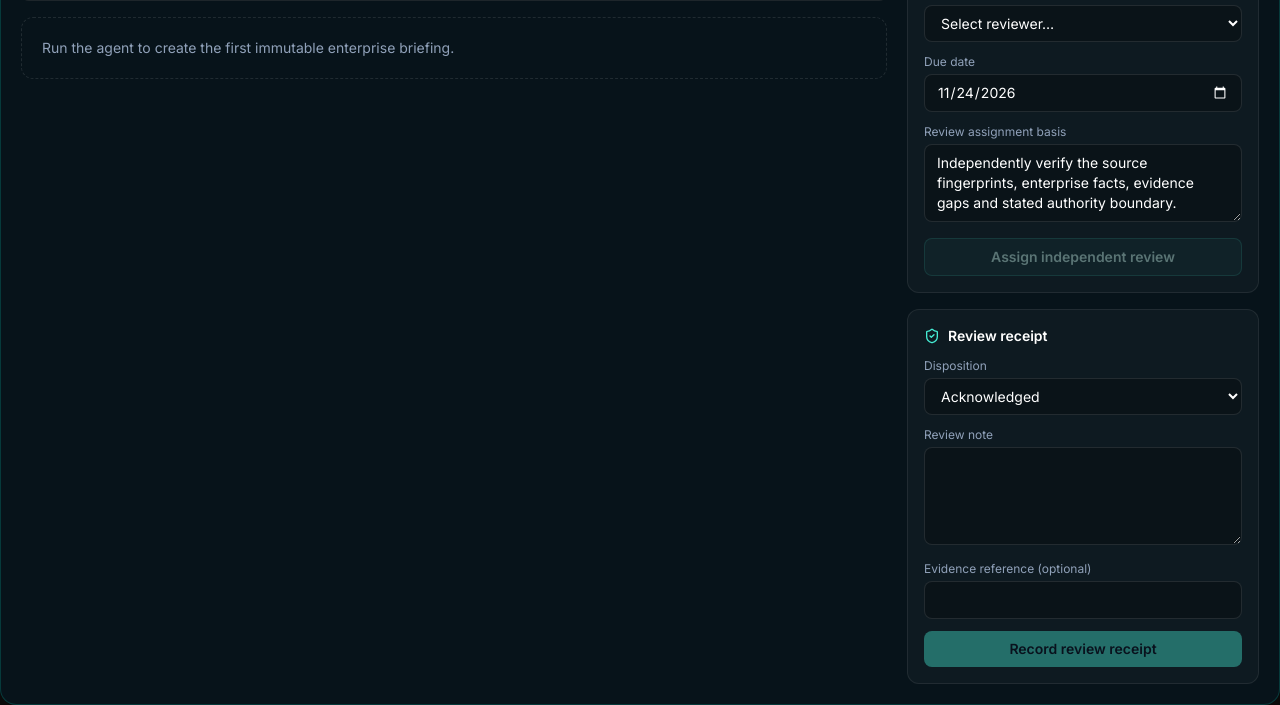
Test: MaintenanceExecutiveAgentWorkbench › enables a receipt only for the assigned reviewer with a substantive note
The width and height of the screenshot is (1280, 705).
(page scrolled)
Expected: the button "Record review receipt" is disabled, x1=924 y1=631 x2=1242 y2=667
In the text box labelled "Review note": (1083,496) x1=924 y1=447 x2=1242 y2=545, type "I independently verified the retained facts and authority boundary."
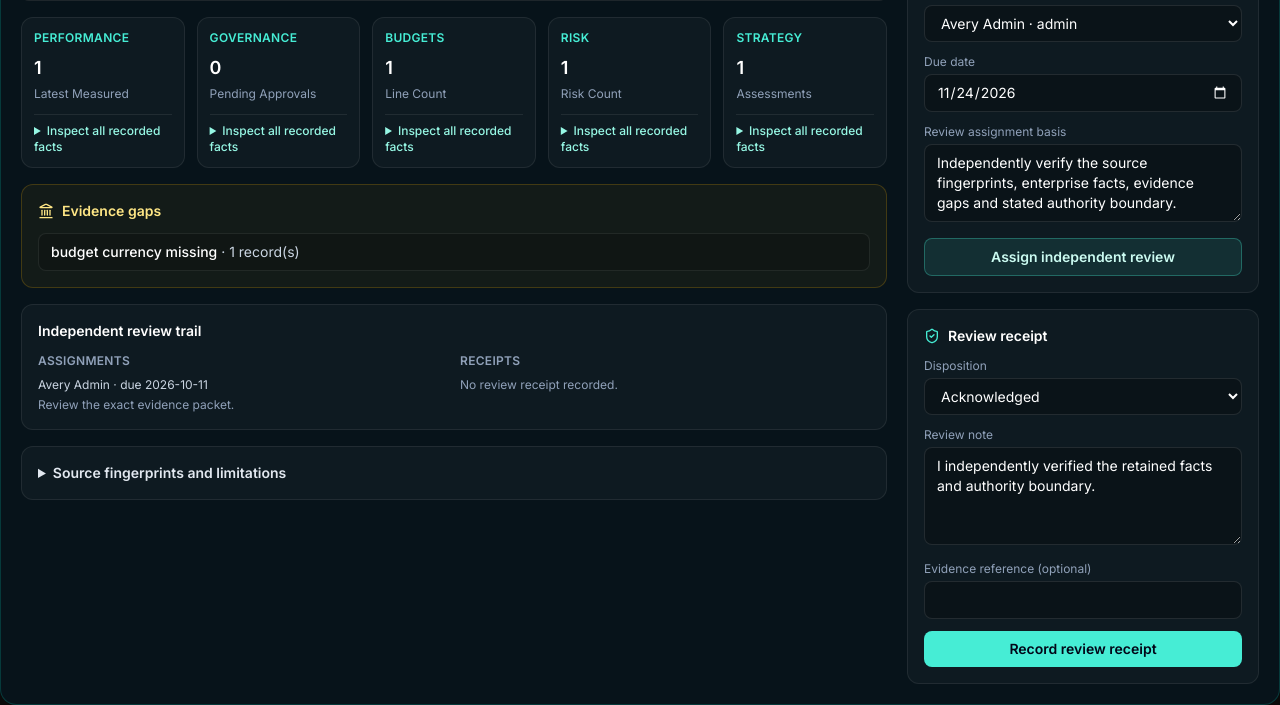
Result: the button "Record review receipt" is enabled at x1=924 y1=631 x2=1242 y2=667
